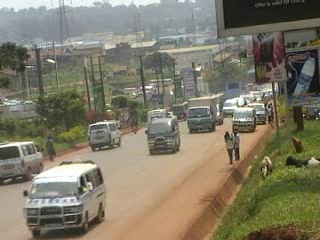Car: (146, 106, 172, 131), (220, 96, 238, 117), (214, 101, 225, 126), (165, 108, 179, 122), (230, 96, 245, 107)
